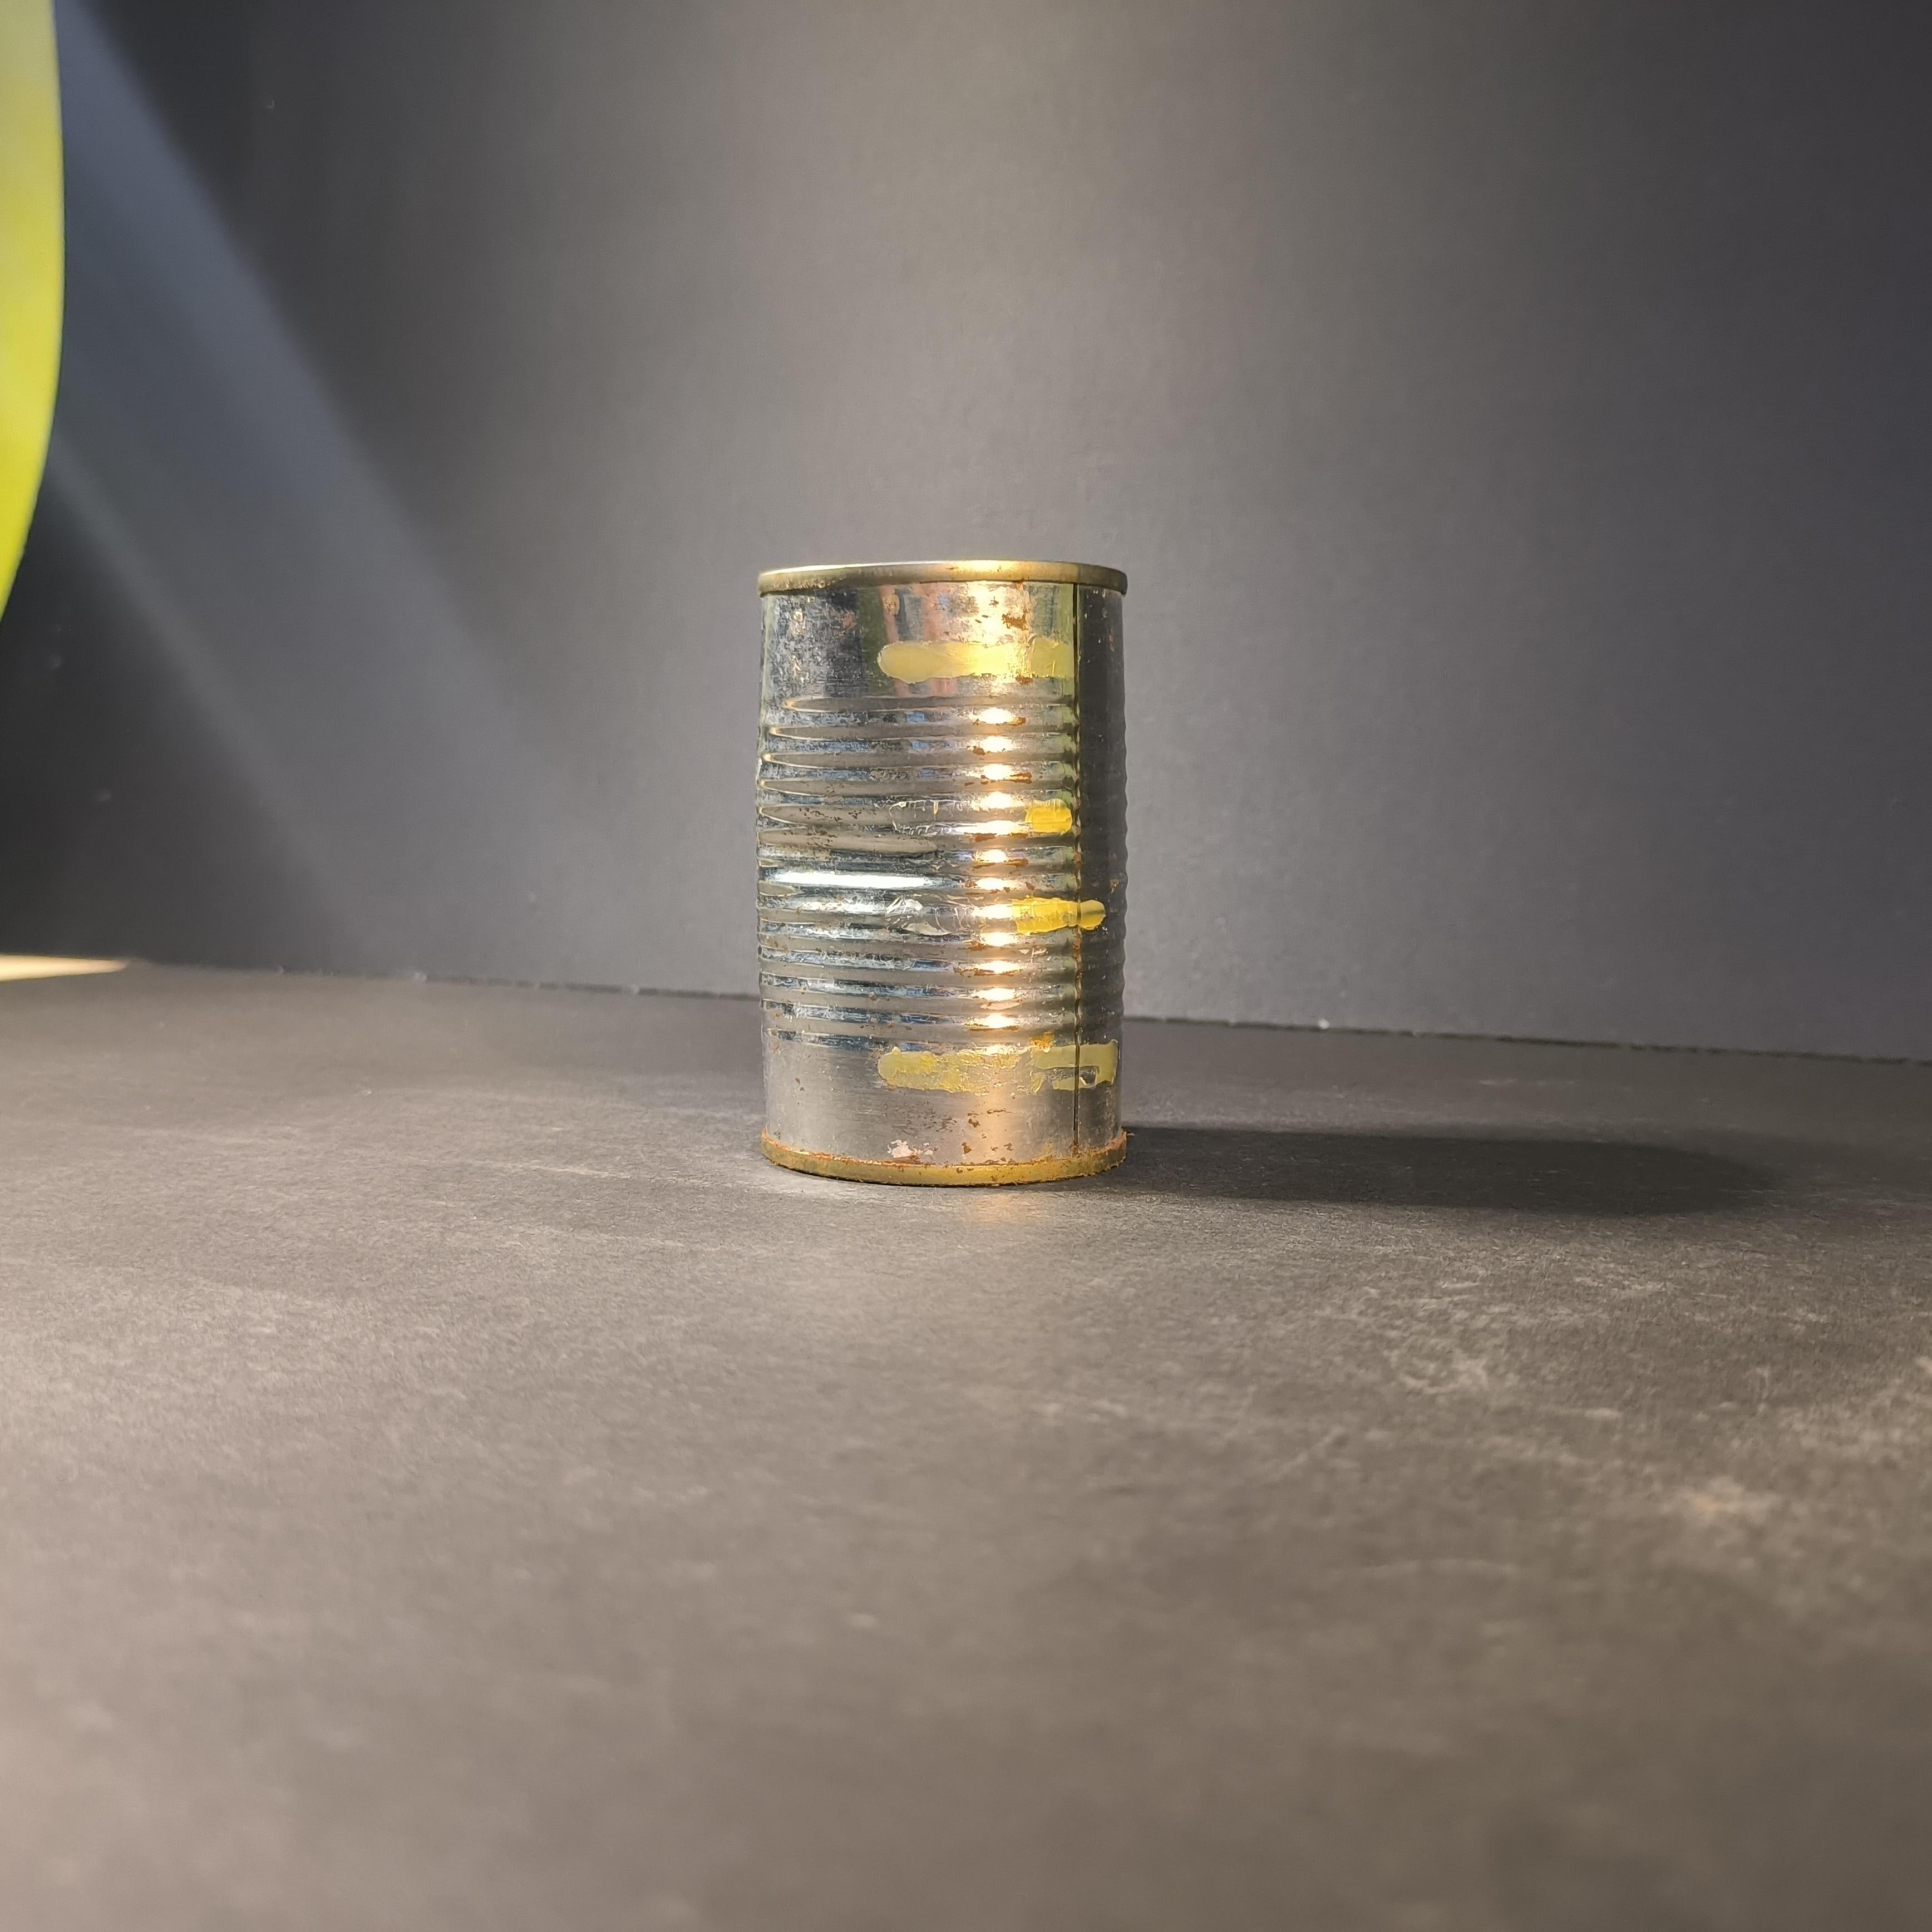Minor Defect: (750, 554, 1132, 1192)
